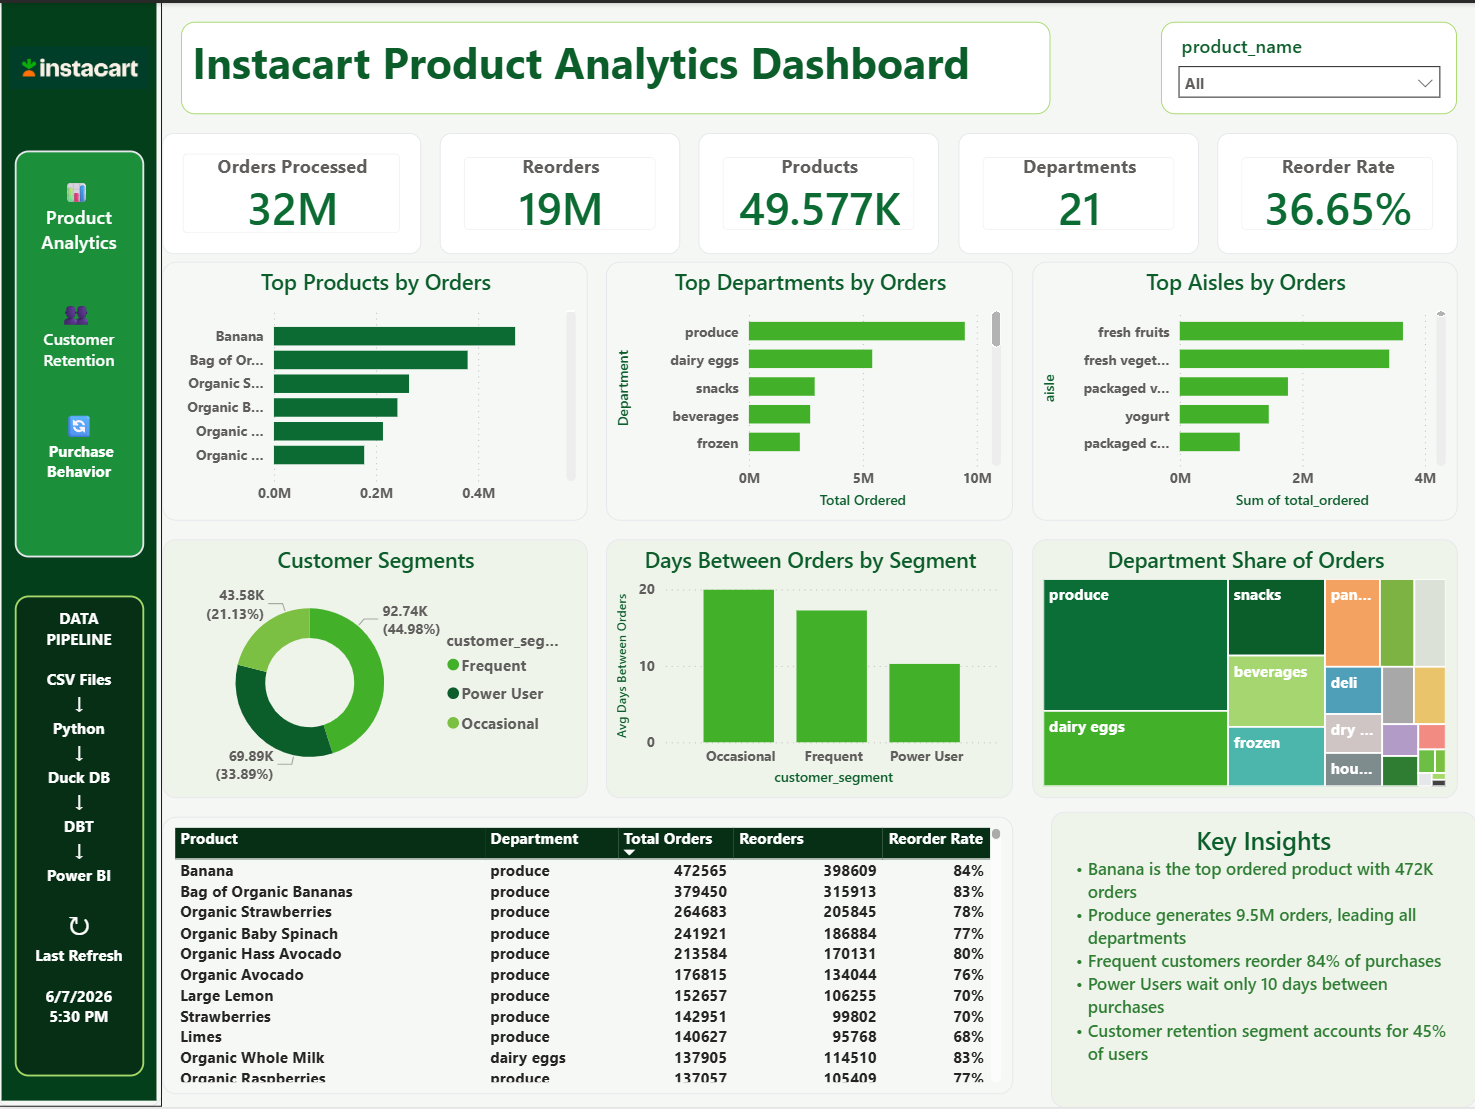

The page's visual inventory and layout, read from the dashboard file:
{"tool":"powerbi","page":{"name":"Page 1","canvas":[1300,955],"ordinal":0},"visuals":[{"type":"textbox","box":[160,16,752,80],"z":0},{"type":"cardVisual","fields":{"Data":["Sum(fct_product_performance.total_ordered)"]},"box":[144,112,224,105],"z":1000},{"type":"slicer","fields":{"Values":["fct_product_performance.product_name"]},"box":[1008,16,256,80],"z":2000},{"type":"clusteredBarChart","title":"Top Products by Orders","fields":{"Y":["Sum(fct_product_performance.total_ordered)"],"Category":["fct_product_performance.product_name"]},"box":[144,224,368,224],"z":3000},{"type":"barChart","title":"Top Departments by Orders","fields":{"Category":["fct_product_performance.department"],"Y":["Sum(fct_product_performance.total_ordered)"]},"box":[528,224,352,224],"z":4000},{"type":"clusteredBarChart","title":"Top Aisles by Orders","fields":{"Category":["fct_product_performance.aisle"],"Y":["Sum(fct_product_performance.total_ordered)"]},"box":[896,224,368,224],"z":5000},{"type":"donutChart","title":"Customer Segments","fields":{"Category":["fct_user_retention.customer_segment"],"Y":["CountNonNull(fct_user_retention.customer_segment)"]},"box":[144,464,368,224],"z":6000},{"type":"columnChart","title":"Days Between Orders by Segment","fields":{"Category":["fct_user_retention.customer_segment"],"Y":["Avg(fct_user_retention.avg_days_between_orders)"]},"box":[528,464,352,224],"z":7000},{"type":"treemap","title":"Department Share of Orders","fields":{"Group":["fct_product_performance.department"],"Values":["Sum(fct_product_performance.total_ordered)"]},"box":[896,464,368,224],"z":8000},{"type":"tableEx","fields":{"Values":["fct_product_performance.product_name","fct_product_performance.department","Sum(fct_product_performance.total_ordered)","Sum(fct_product_performance.total_reordered)","Sum(fct_product_performance.reorder_rate)"]},"box":[144,704,736,240],"z":9000},{"type":"textbox","box":[912,699,368,256],"z":10000},{"type":"shape","box":[0,-5,144,960],"z":11000},{"type":"image","box":[12,0,120,112],"z":12000},{"type":"cardVisual","fields":{"Data":["Sum(fct_product_performance.total_reordered)"]},"box":[384,112,208,105],"z":13000},{"type":"cardVisual","fields":{"Data":["Count(fct_product_performance.product_name)"]},"box":[608,112,208,105],"z":14000},{"type":"cardVisual","fields":{"Data":["Count(fct_product_performance.department)"]},"box":[832,112,208,105],"z":15000},{"type":"cardVisual","fields":{"Data":["fct_product_performance.Avg Reorder Rate"]},"box":[1056,112,208,105],"z":16000},{"type":"textbox","box":[16,128,112,352],"z":17000},{"type":"textbox","box":[16,512,112,416],"z":18000}]}

Visuals, with their boxes in screenshot pixels (x1, y1, x2, y2):
textbox: <box>173,113,984,200</box>
cardVisual - Sum(fct_product_performance.total_ordered): <box>155,217,397,330</box>
slicer - fct_product_performance.product_name: <box>1088,113,1364,200</box>
"Top Products by Orders" clusteredBarChart: <box>155,338,553,580</box>
"Top Departments by Orders" barChart: <box>570,338,950,580</box>
"Top Aisles by Orders" clusteredBarChart: <box>967,338,1364,580</box>
"Customer Segments" donutChart: <box>155,597,553,839</box>
"Days Between Orders by Segment" columnChart: <box>570,597,950,839</box>
"Department Share of Orders" treemap: <box>967,597,1364,839</box>
tableEx - fct_product_performance.product_name x fct_product_performance.department: <box>155,856,950,1108</box>
textbox: <box>984,850,1381,1108</box>
shape: <box>0,91,155,1108</box>
image: <box>13,96,142,217</box>
cardVisual - Sum(fct_product_performance.total_reordered): <box>414,217,639,330</box>
cardVisual - Count(fct_product_performance.product_name): <box>656,217,881,330</box>
cardVisual - Count(fct_product_performance.department): <box>898,217,1122,330</box>
cardVisual - fct_product_performance.Avg Reorder Rate: <box>1140,217,1364,330</box>
textbox: <box>17,234,138,614</box>
textbox: <box>17,649,138,1098</box>
